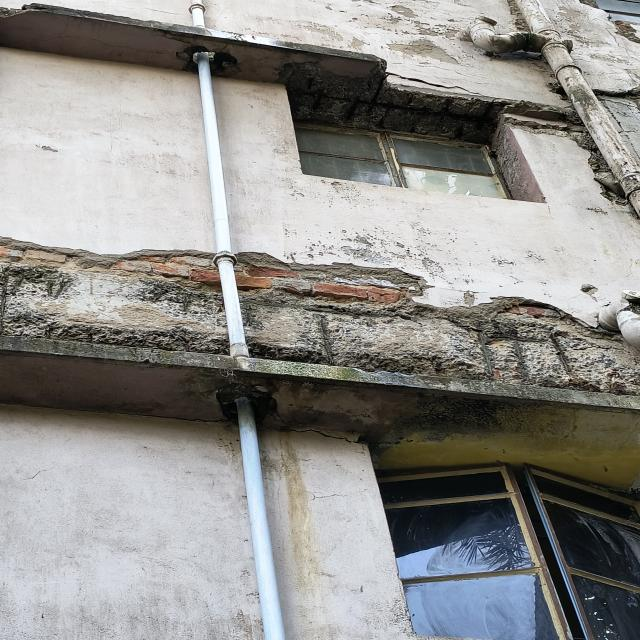crack: (285, 422, 384, 455)
peeling: (362, 2, 633, 80), (518, 71, 640, 214)
spalling: (0, 3, 569, 145), (240, 254, 640, 396), (0, 238, 228, 355), (406, 121, 412, 127)
